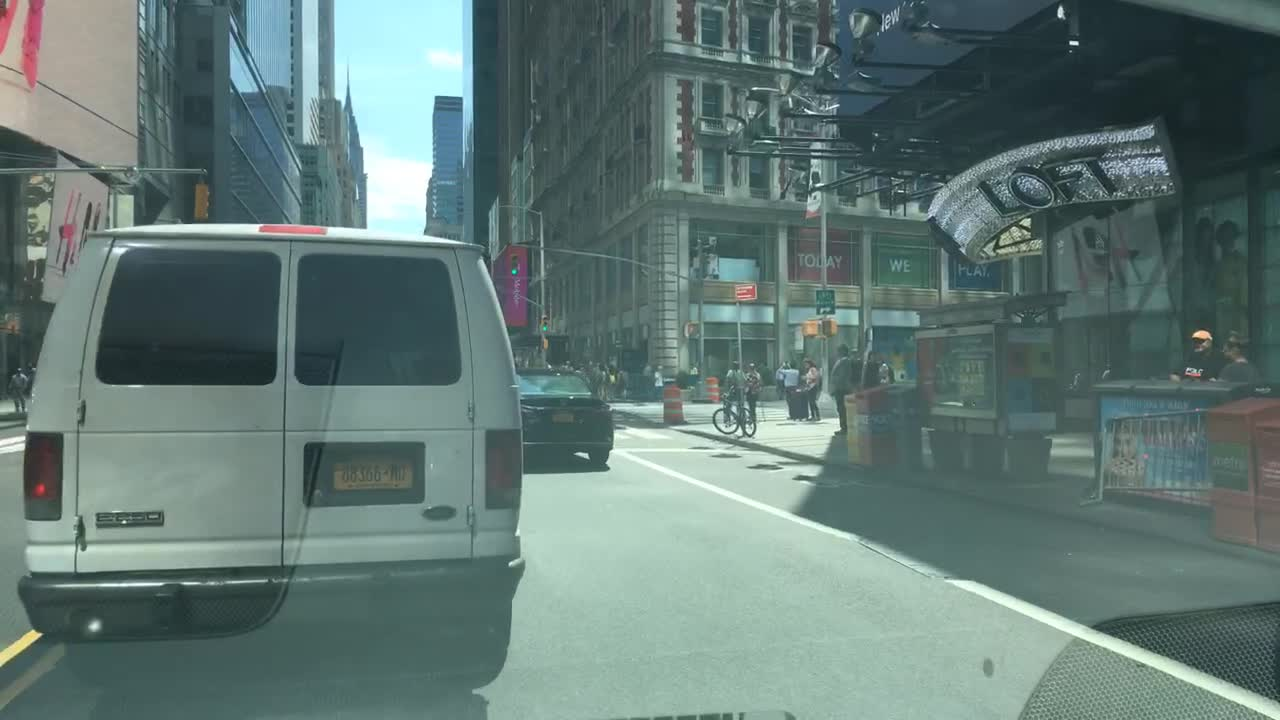bike: (712, 388, 756, 437), (850, 344, 864, 384)
car: (17, 222, 525, 692), (517, 370, 616, 466)
person: (1172, 328, 1221, 381), (1211, 333, 1260, 385), (797, 356, 821, 421), (774, 359, 801, 416), (835, 345, 852, 434), (7, 366, 27, 415), (869, 349, 893, 386), (723, 361, 744, 386), (743, 363, 761, 391), (651, 365, 663, 393), (672, 365, 687, 385), (615, 366, 625, 395), (688, 361, 698, 383), (606, 363, 616, 381), (561, 358, 572, 370), (576, 365, 588, 376)
traffic light: (194, 183, 207, 217), (799, 319, 814, 336), (824, 319, 838, 336), (686, 321, 701, 336), (510, 253, 519, 275), (541, 315, 549, 331)
traffic sign: (814, 290, 835, 314), (734, 285, 754, 298)
